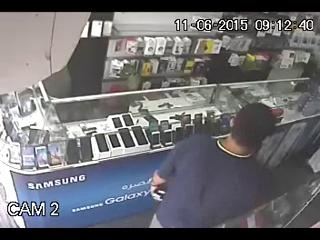Normal: (149, 101, 283, 228)
